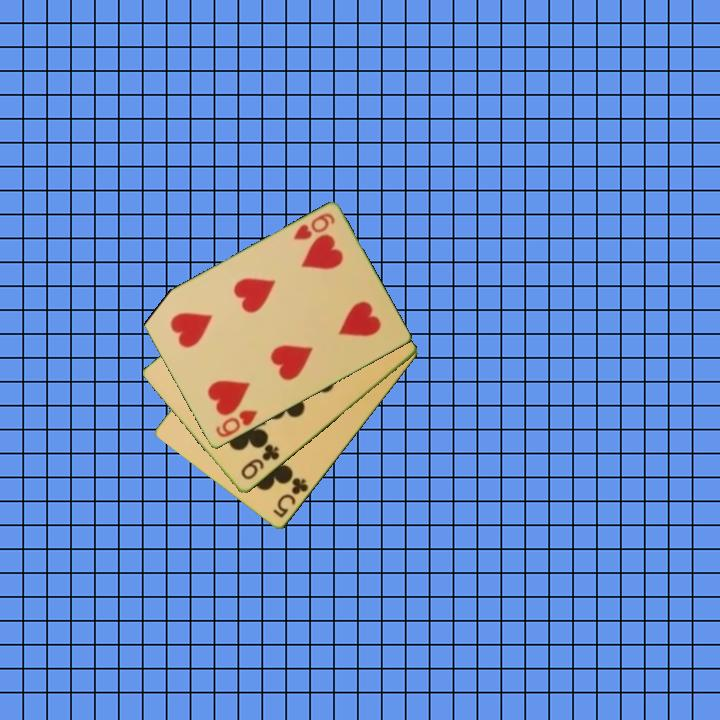5c: (270, 474, 312, 521)
6h: (212, 407, 260, 441), (290, 209, 338, 243)
9c: (237, 441, 283, 483)
